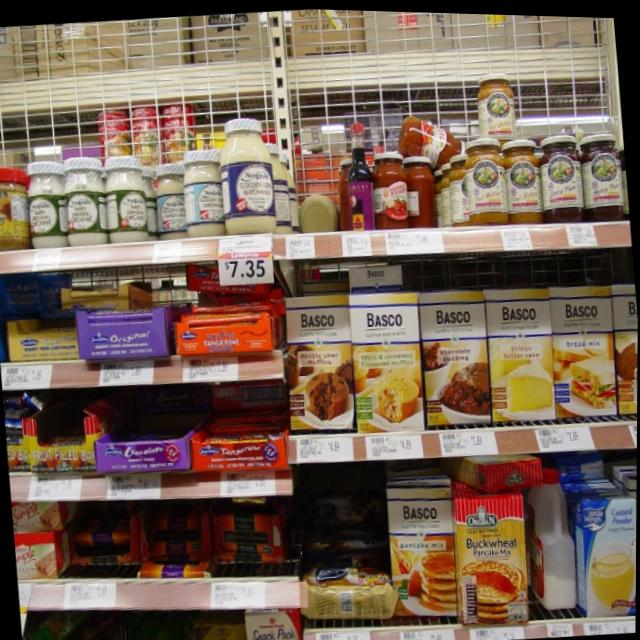q25: (450, 481, 536, 624)
q82: (539, 130, 586, 216), (580, 124, 624, 209)
